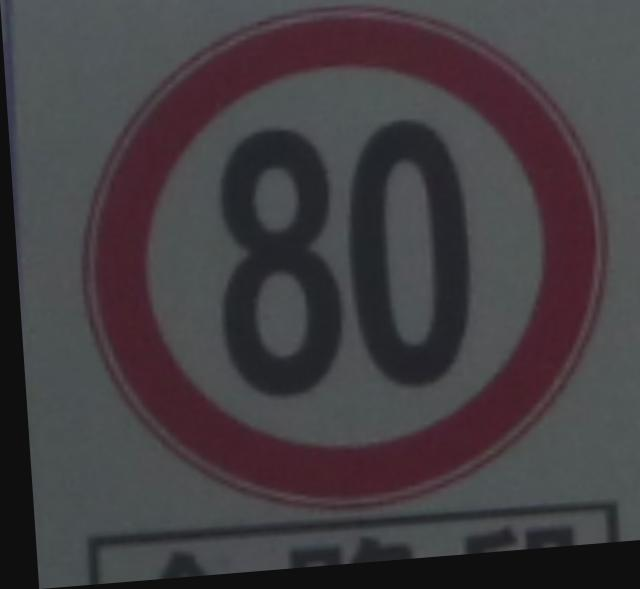limit80: (55, 0, 625, 540)
